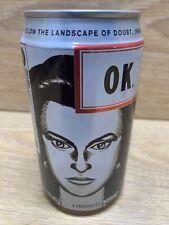metal: (20, 10, 144, 214)
